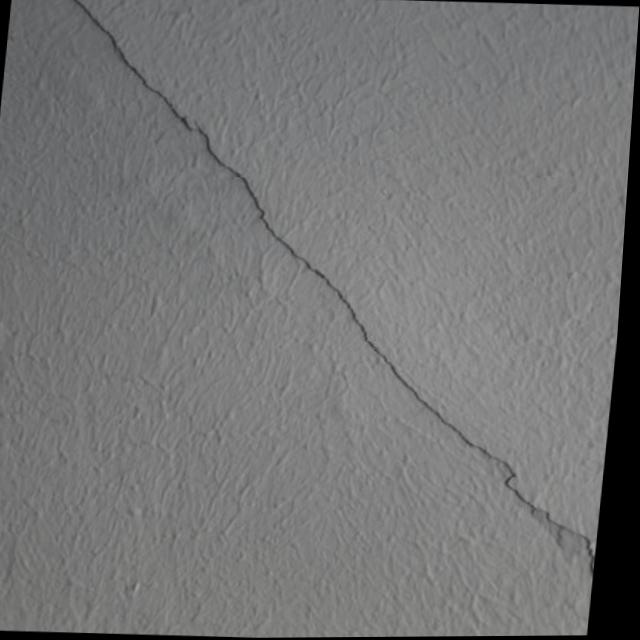Crack: (11, 0, 640, 582)
